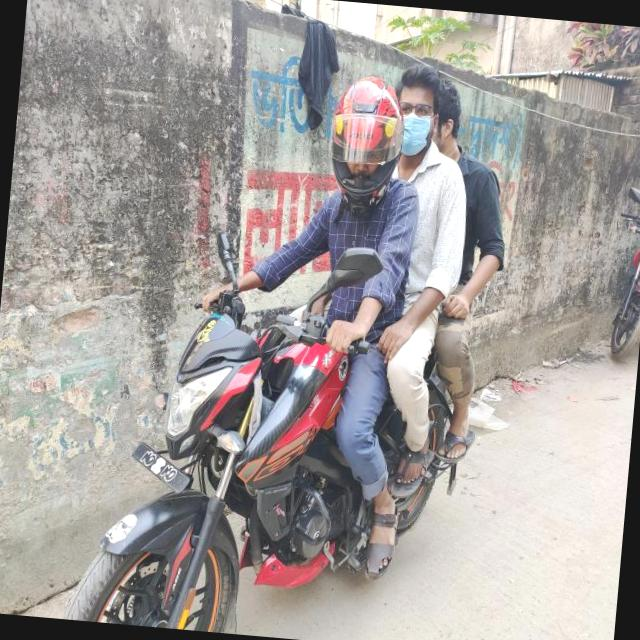motorcycle: (70, 269, 483, 640)
person: (186, 63, 435, 640), (364, 73, 522, 516), (328, 63, 460, 476)
rider_region: (72, 37, 529, 640)
